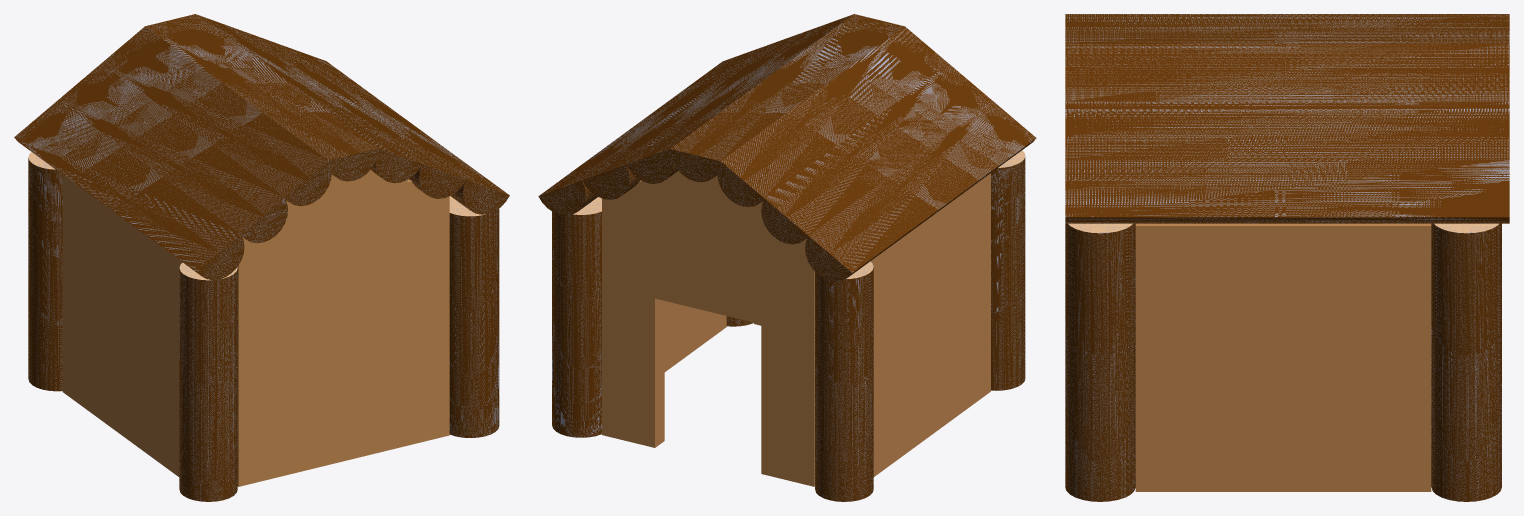
The model's file is home_mk2.dae.
The picture shows the model from 3 angles, left to right: view 1: azimuth 30°, elevation 25°; view 2: azimuth 150°, elevation 25°; view 3: azimuth 270°, elevation 25°; orthographic projection. The views are drawn at different scales.
Parts seen in each view (by area): view 1: SketchUp (×6); view 2: SketchUp (×7); view 3: SketchUp (×6).
Boxes of the visible parts, bbox=[...] form: SketchUp (×6): bbox=[14, 14, 509, 501]; SketchUp (×7): bbox=[538, 14, 1036, 501]; SketchUp (×6): bbox=[1065, 14, 1509, 501].
Size of the model in its own units: 74.38 by 75.6 by 71.4.
